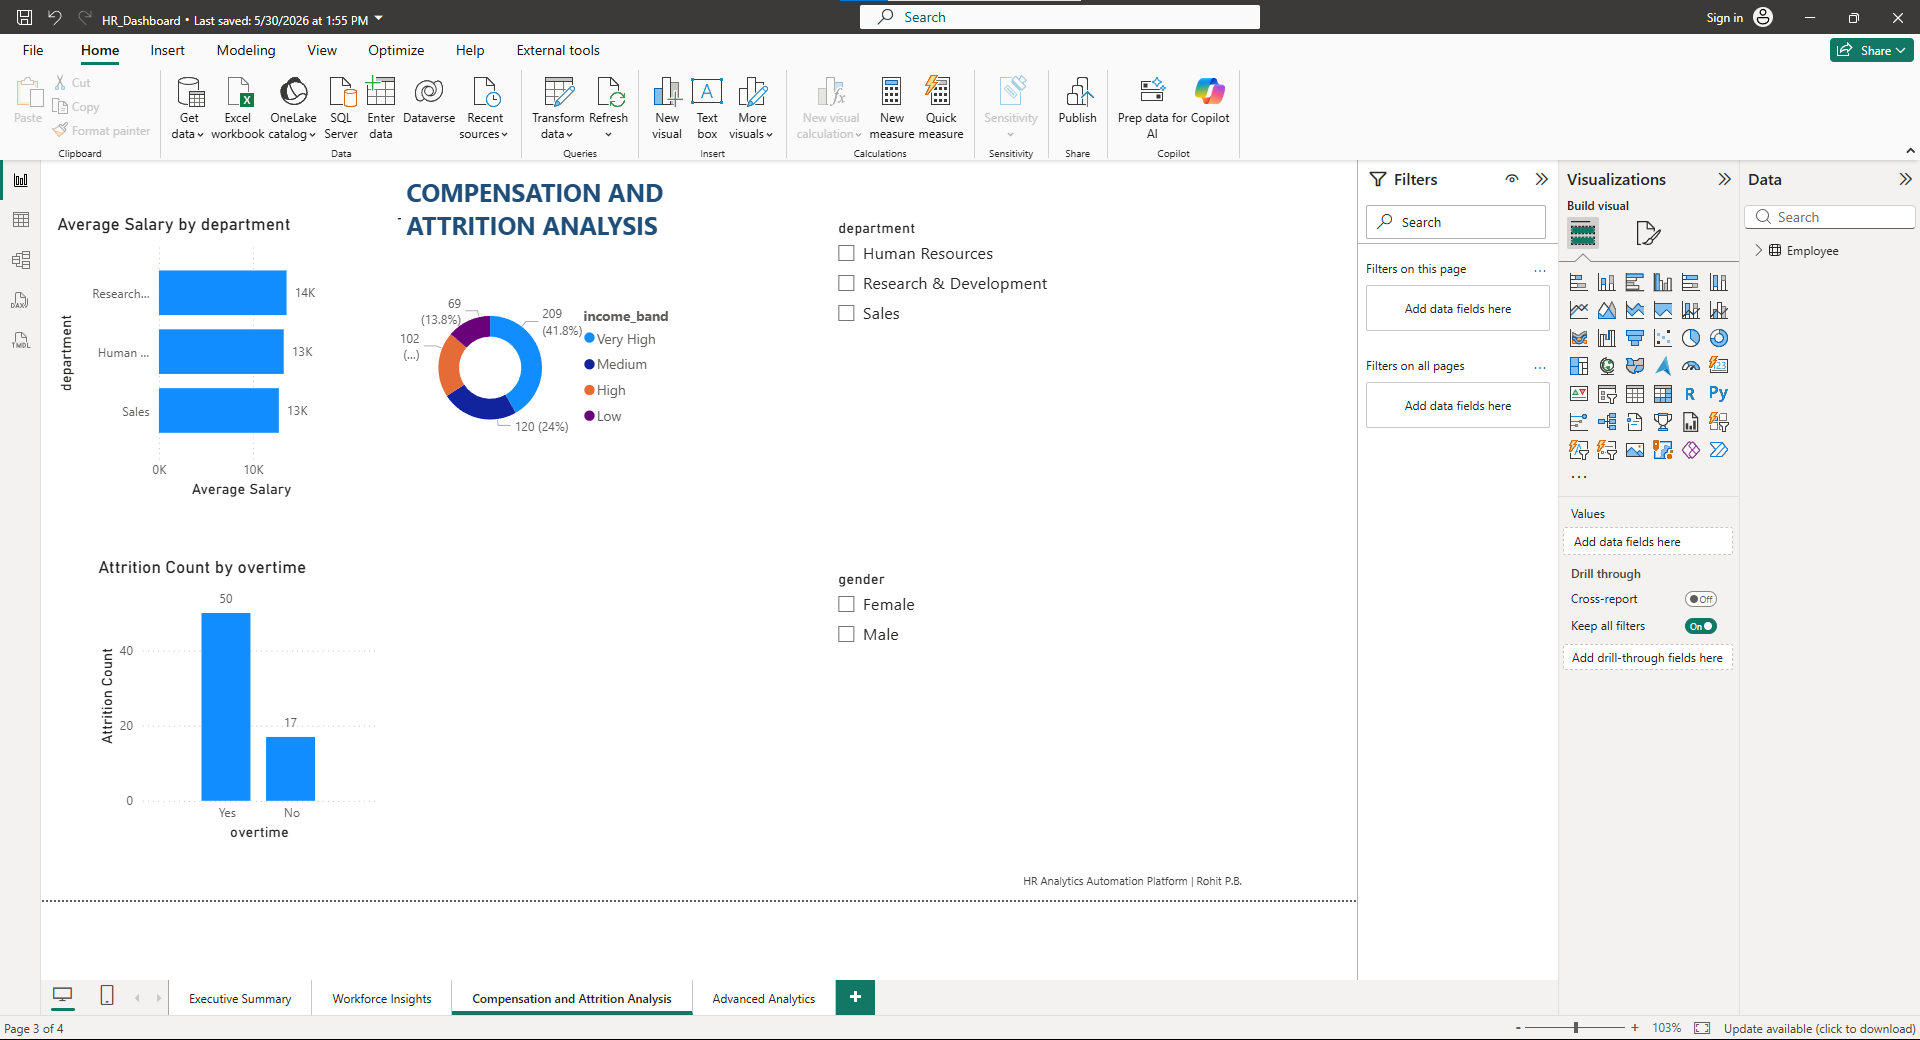

This screenshot's page, from the dashboard's own definition file:
{"tool":"powerbi","page":{"name":"Compensation and Attrition Analysis","canvas":[1280,720],"ordinal":2},"visuals":[{"type":"clusteredBarChart","fields":{"Y":["Employee.Average Salary"],"Category":["Employee.department"]},"box":[10.7,52.5,280.1,280.1],"z":0},{"type":"clusteredColumnChart","fields":{"Category":["Employee.overtime"],"Y":["Employee.Attrition Count"]},"box":[50.6,386.1,280.1,280.1],"z":1000},{"type":"donutChart","fields":{"Category":["Employee.income_band"],"Y":["Employee.Total Employees"]},"box":[341,53,280,280],"z":2000},{"type":"slicer","fields":{"Values":["Employee.department"]},"box":[762.6,52.5,279.1,156.6],"z":3000},{"type":"slicer","fields":{"Values":["Employee.gender"]},"box":[762.4,393.6,219.9,125.2],"z":4000},{"type":"textbox","box":[350.2,9.7,271.4,87.5],"z":5000},{"type":"textbox","box":[950,686,300.5,33.1],"z":6000}]}

Visuals, with their boxes on the page's 1280x720 design canvas (x1, y1, x2, y2). These are canvas units, not pixel positions in the 1920x1040 screenshot, which may show the page scaled, cropped or inside an application window:
clusteredBarChart - Employee.Average Salary x Employee.department: select_region(11, 52, 291, 333)
clusteredColumnChart - Employee.overtime x Employee.Attrition Count: select_region(51, 386, 331, 666)
donutChart - Employee.income_band x Employee.Total Employees: select_region(341, 53, 621, 333)
slicer - Employee.department: select_region(763, 52, 1042, 209)
slicer - Employee.gender: select_region(762, 394, 982, 519)
textbox: select_region(350, 10, 622, 97)
textbox: select_region(950, 686, 1250, 719)
